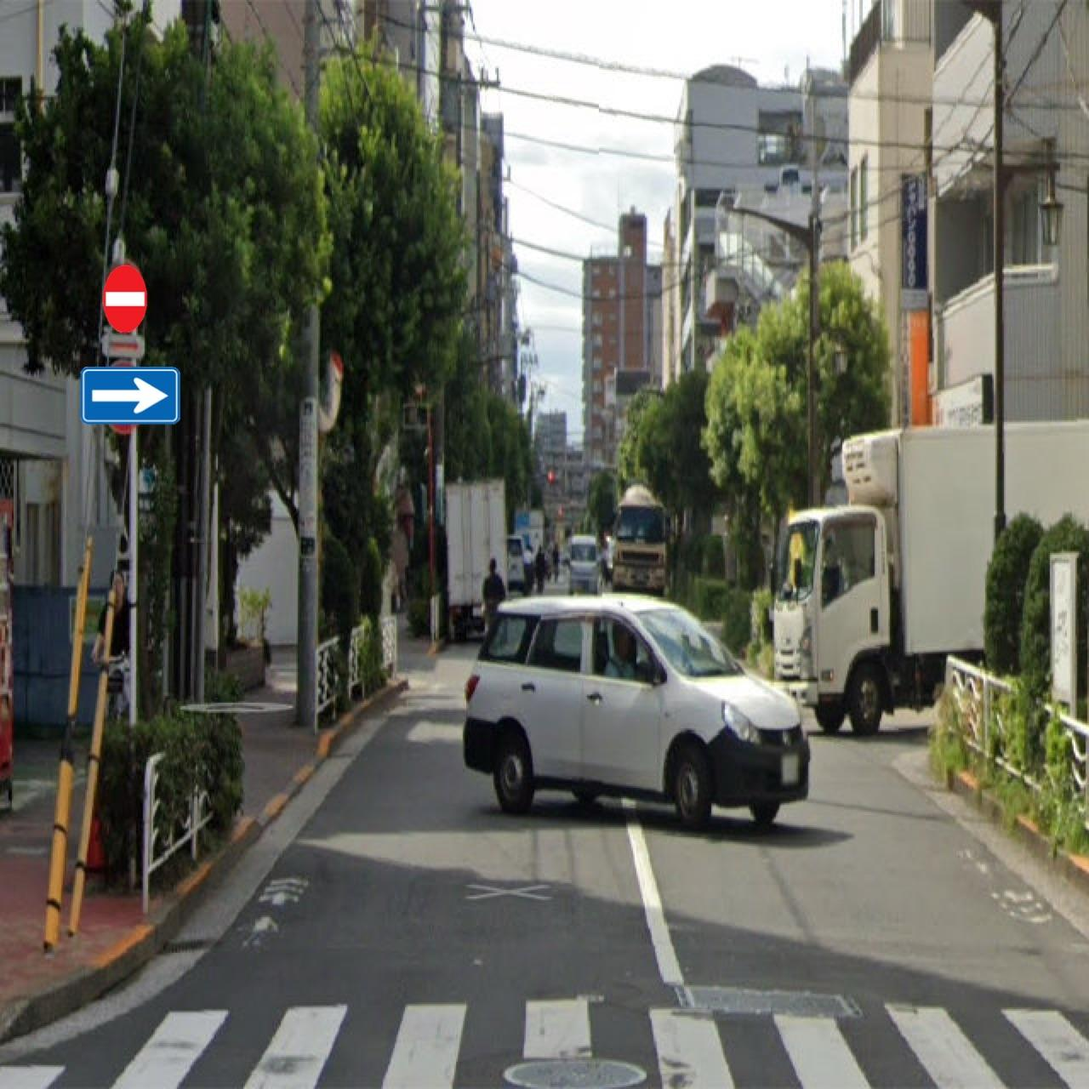barrier: (94, 262, 151, 334)
